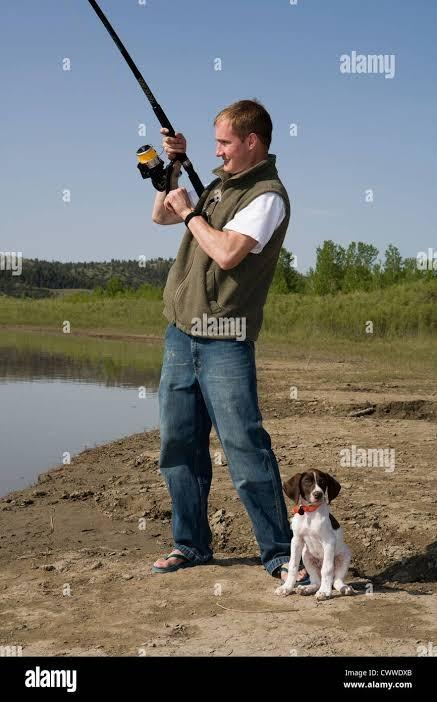adult_dog: (273, 467, 368, 601)
